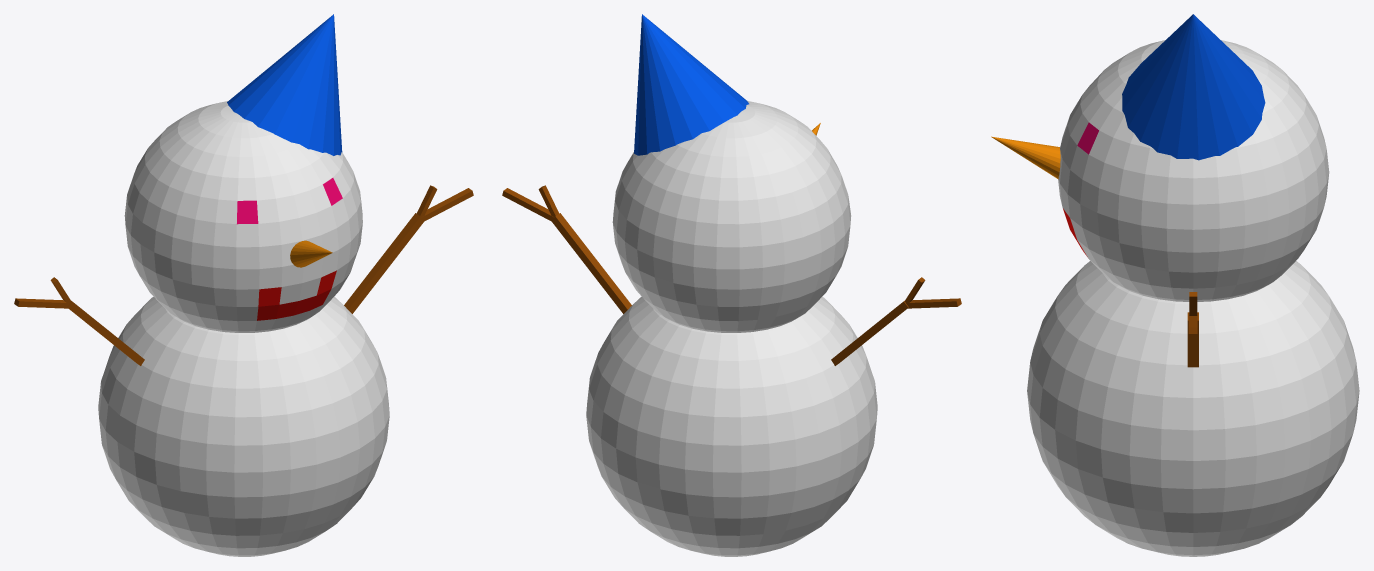
File: snowman.fbx
3 views of the same model, side by side, from view 1: azimuth 30°, elevation 25°; view 2: azimuth 150°, elevation 25°; view 3: azimuth 270°, elevation 25° (orthographic). The views are drawn at different scales.
Visible parts, largest first — view 1: Sphere, Sphere.001, Cone.001, Cube.002, Cone; view 2: Sphere, Sphere.001, Cone.001, Cube.002; view 3: Sphere, Sphere.001, Cone.001, Cone, Cube.002.
Part boxes in pixels (<box>): Sphere: <box>98,296,389,556</box>; Sphere.001: <box>124,101,362,332</box>; Cone.001: <box>227,14,342,155</box>; Cube.002: <box>14,185,473,365</box>; Cone: <box>290,240,332,267</box>; Sphere: <box>586,296,877,556</box>; Sphere.001: <box>612,101,851,332</box>; Cone.001: <box>634,14,748,155</box>; Cube.002: <box>502,185,961,365</box>; Sphere: <box>1027,261,1359,556</box>; Sphere.001: <box>1058,40,1329,301</box>; Cone.001: <box>1122,14,1265,160</box>; Cone: <box>991,136,1060,179</box>; Cube.002: <box>1187,292,1198,367</box>.
Size of the model in its own units: 640 by 681 by 395.
